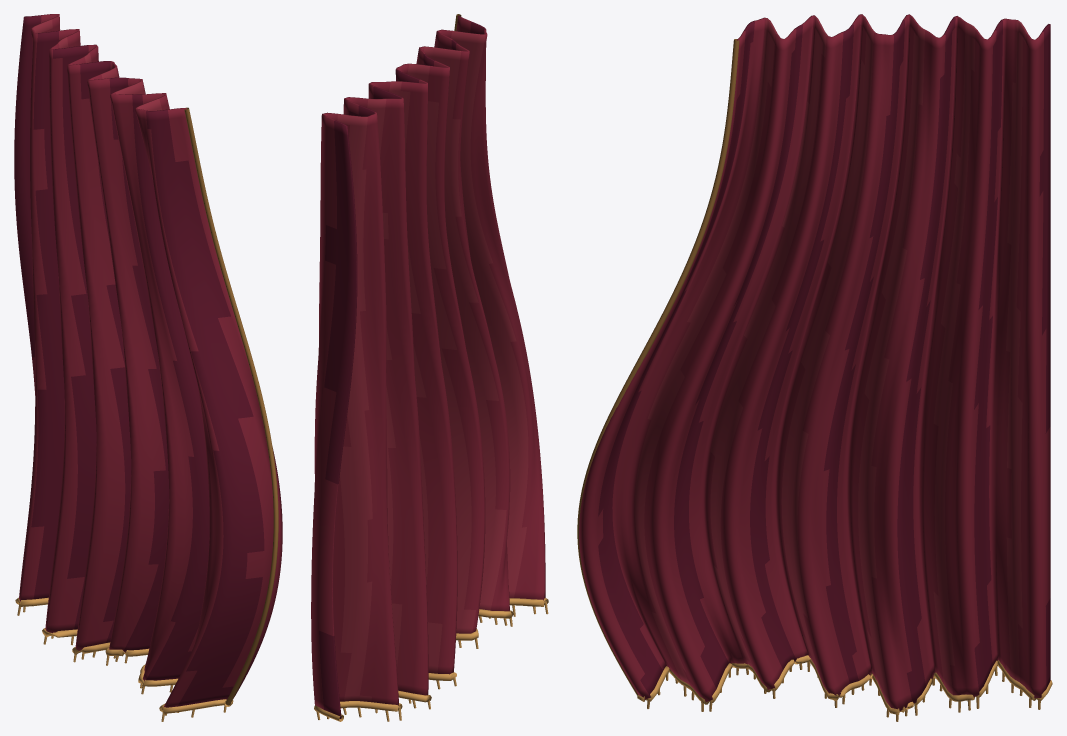
Rendered from SM_Menu_CurtainLeft.fbx.
3 views of the same model, side by side, from view 1: azimuth 30°, elevation 25°; view 2: azimuth 150°, elevation 25°; view 3: azimuth 270°, elevation 25° (orthographic). The views are drawn at different scales.
Parts seen in each view (by area): view 1: SM_Menu_CurtainLeft; view 2: SM_Menu_CurtainLeft; view 3: SM_Menu_CurtainLeft.
Boxes of the visible parts, bbox=[...] form: SM_Menu_CurtainLeft: bbox=[14, 14, 282, 721]; SM_Menu_CurtainLeft: bbox=[311, 14, 548, 721]; SM_Menu_CurtainLeft: bbox=[577, 14, 1052, 721].
Bounding box in the file's own units: 101 × 384 × 611.
